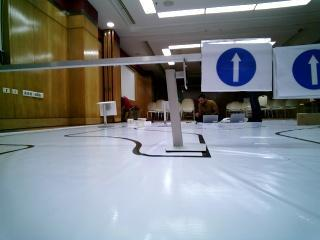straight: (203, 41, 270, 90), (273, 46, 320, 97)
